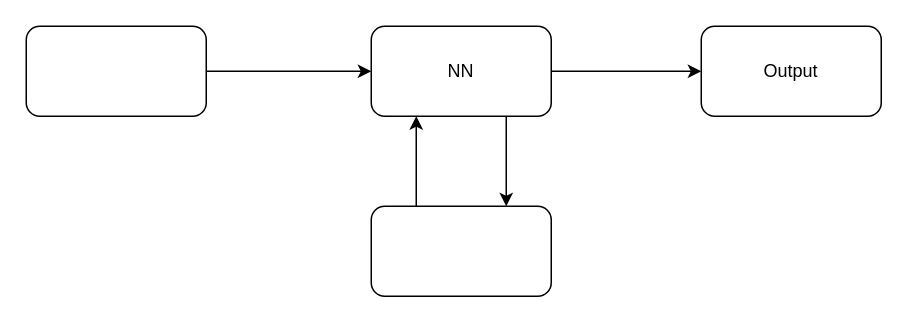
The diagram is 908 pixels wide and 323 high, and some of its shapes have lost their labels. The box of each missing label's shape, as (x1, y1, x2, y2) in pixels:
Input: (25, 25, 206, 116)
State: (370, 205, 551, 296)
